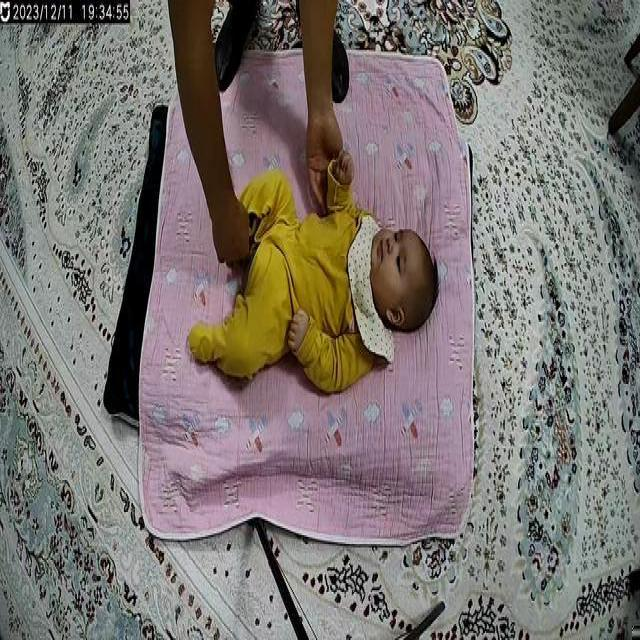baby: (185, 145, 439, 400)
